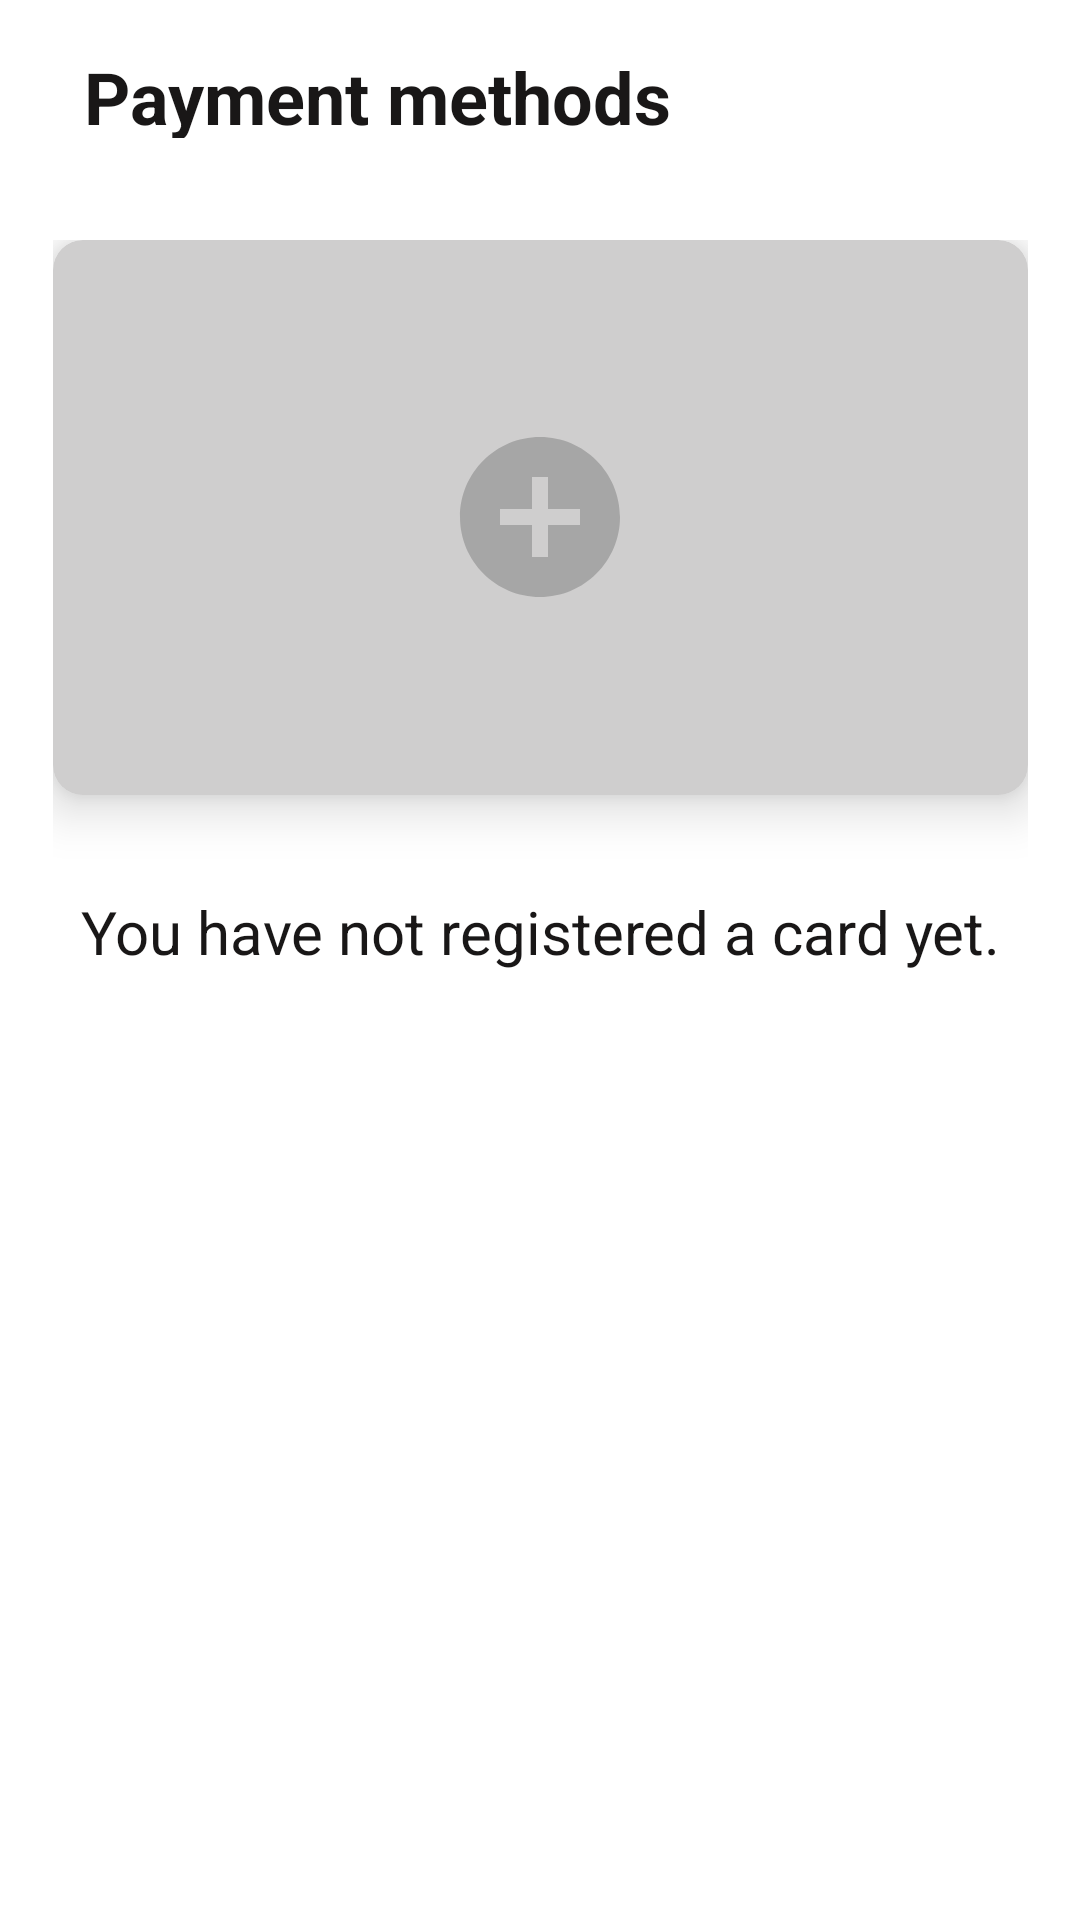

Where to tap for icons on this 1080px x 1920px app screen, as (x,y):
add: (540,517)
